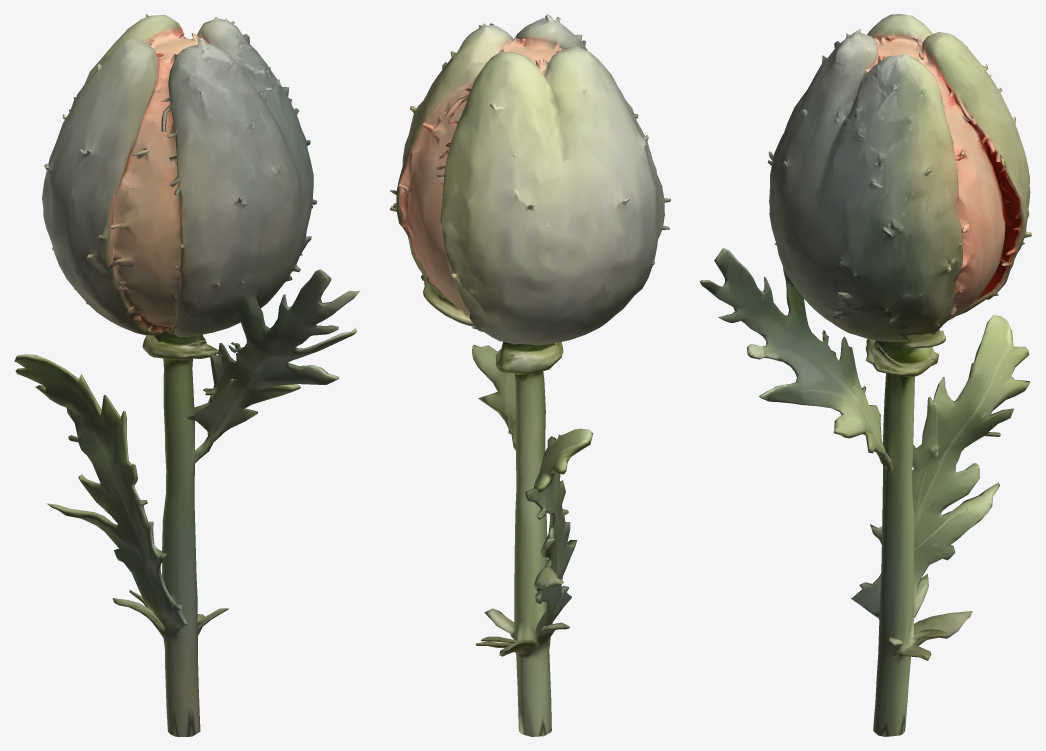
Rendered from poppy-bud.glb.
3 renders of one model, left to right at view 1: azimuth 30°, elevation 25°; view 2: azimuth 150°, elevation 25°; view 3: azimuth 270°, elevation 25°, orthographic.
Parts seen in each view (by area): view 1: tripo_node_01a22160-319d-7a85-9351-8b319f167318; view 2: tripo_node_01a22160-319d-7a85-9351-8b319f167318; view 3: tripo_node_01a22160-319d-7a85-9351-8b319f167318.
Boxes of the visible parts, x1,y1,x2,y2 form: tripo_node_01a22160-319d-7a85-9351-8b319f167318: [14, 14, 360, 736]; tripo_node_01a22160-319d-7a85-9351-8b319f167318: [389, 14, 670, 736]; tripo_node_01a22160-319d-7a85-9351-8b319f167318: [699, 14, 1031, 736].
Size of the model in its own units: 0.362 by 1 by 0.4284.
Materials: 1 (1 with a texture image).
